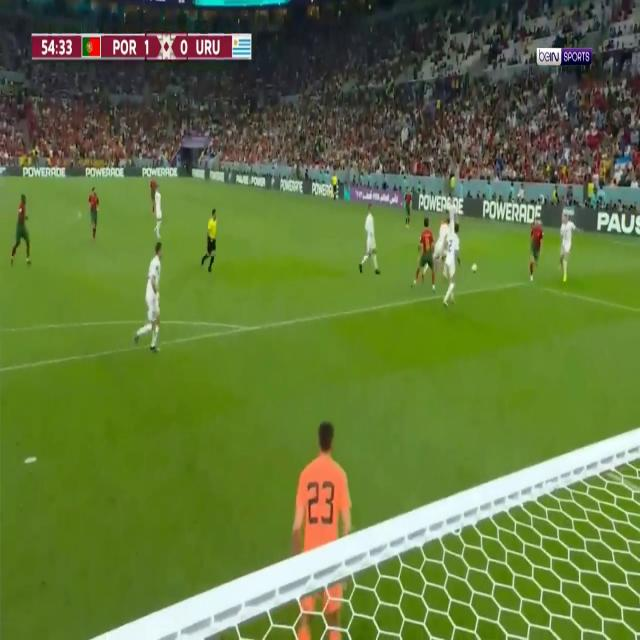Ball: (471, 263, 478, 273)
GoalKeeper: (289, 419, 360, 640)
Referee: (200, 205, 219, 275), (332, 172, 338, 200)
TEAM 1: (411, 218, 436, 295), (9, 193, 32, 270), (529, 218, 544, 282), (88, 185, 100, 240), (403, 190, 413, 232), (149, 174, 158, 213)
TEAM 2: (133, 239, 168, 354), (418, 217, 451, 278), (557, 212, 581, 286), (442, 222, 462, 308), (359, 204, 381, 276), (151, 184, 167, 242), (447, 200, 457, 236)
